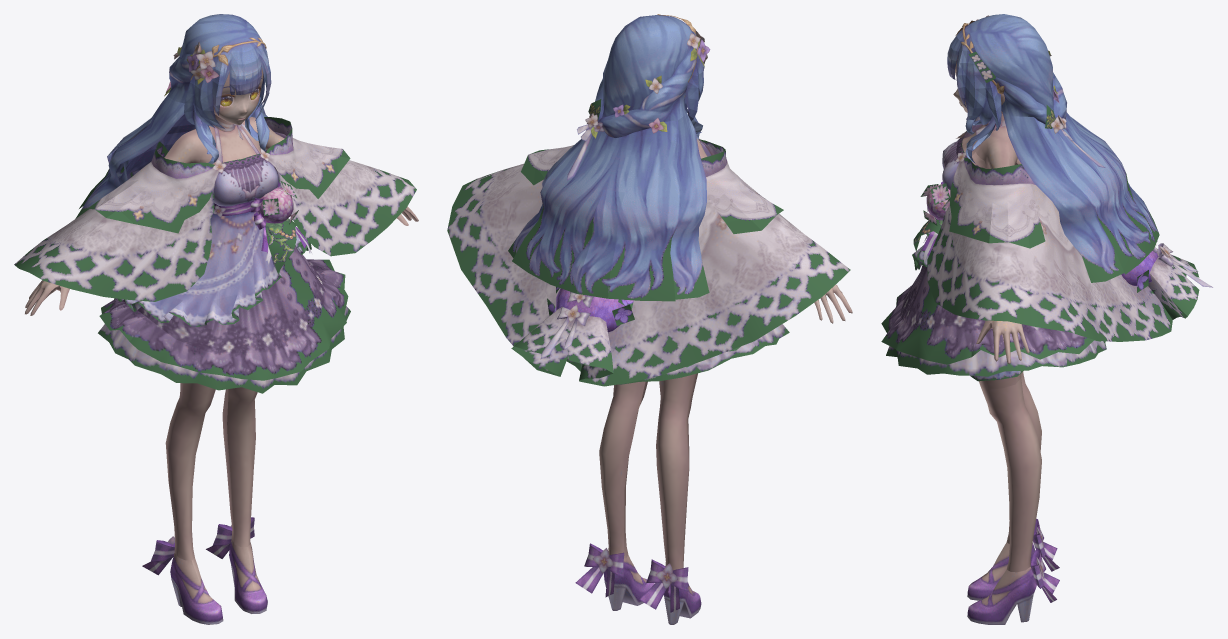
The model's file is fateGirl.glb.
3 views of the same model, side by side, from view 1: azimuth 30°, elevation 25°; view 2: azimuth 150°, elevation 25°; view 3: azimuth 270°, elevation 25° (orthographic).
Parts seen in each view (by area): view 1: obj058; view 2: obj058; view 3: obj058.
Boxes of the visible parts, <box> form: obj058: <box>14,14,418,624</box>; obj058: <box>447,14,852,624</box>; obj058: <box>881,14,1212,624</box>.
Size of the model in its own units: 94.34 by 136 by 69.8.
Materials: 1 (1 with a texture image).
